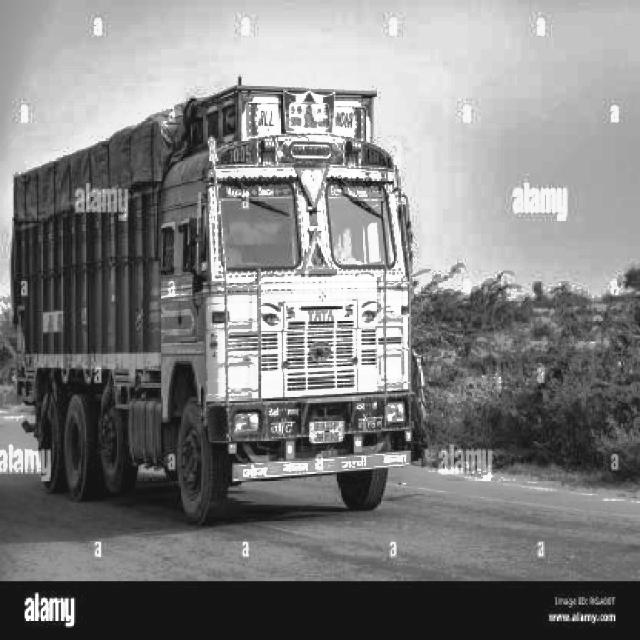HCV: (25, 130, 417, 488)
